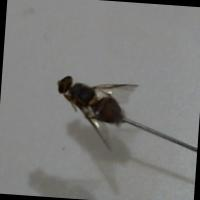Oriental-fruit-fly: (43, 61, 144, 158)
